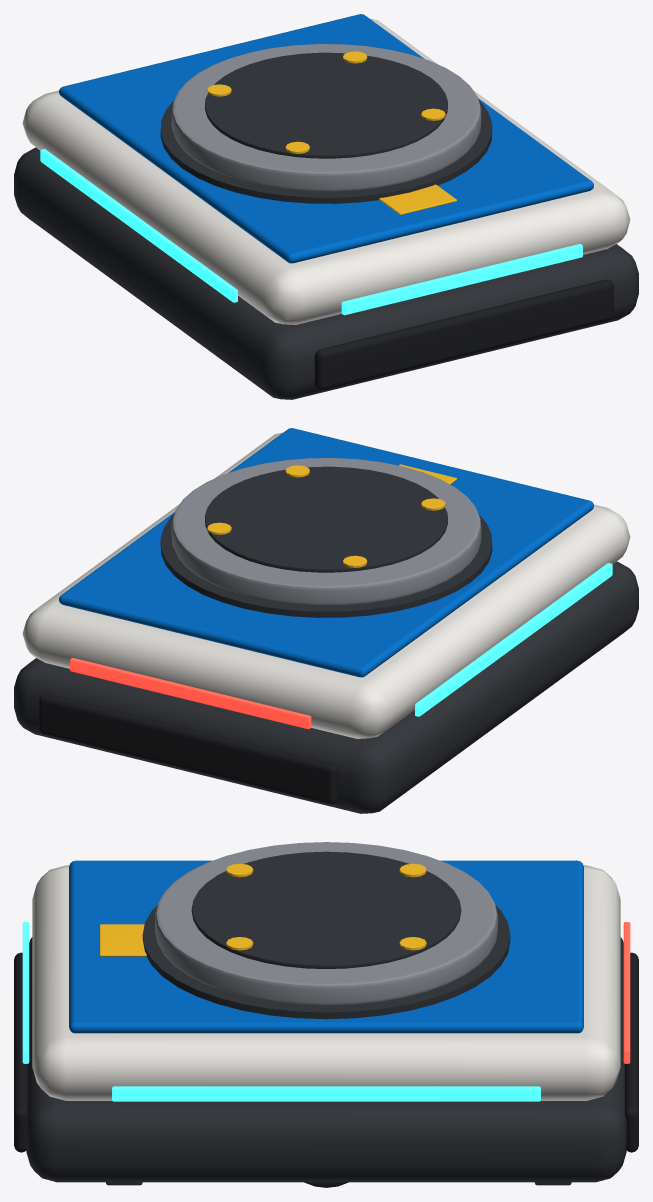
File: amr.glb
The picture shows the model from 3 angles, top to bottom: view 1: azimuth 30°, elevation 25°; view 2: azimuth 150°, elevation 25°; view 3: azimuth 270°, elevation 25°; orthographic projection. The views are drawn at different scales.
Visible parts, largest first — view 1: body_geo, lift_top_geo, light_strip_geo; view 2: body_geo, lift_top_geo, light_strip_geo; view 3: body_geo, lift_top_geo, light_strip_geo.
Part boxes in pixels (left/top/right/bottom): body_geo: left=14, top=14, right=638, bottom=399; lift_top_geo: left=171, top=44, right=481, bottom=191; light_strip_geo: left=40, top=149, right=582, bottom=315; body_geo: left=14, top=428, right=638, bottom=813; lift_top_geo: left=171, top=458, right=481, bottom=605; light_strip_geo: left=70, top=563, right=612, bottom=729; body_geo: left=14, top=860, right=638, bottom=1182; lift_top_geo: left=155, top=842, right=497, bottom=1005; light_strip_geo: left=22, top=922, right=630, bottom=1101.
Bounding box in the file's own units: 0.7921 × 0.364 × 1.02.
